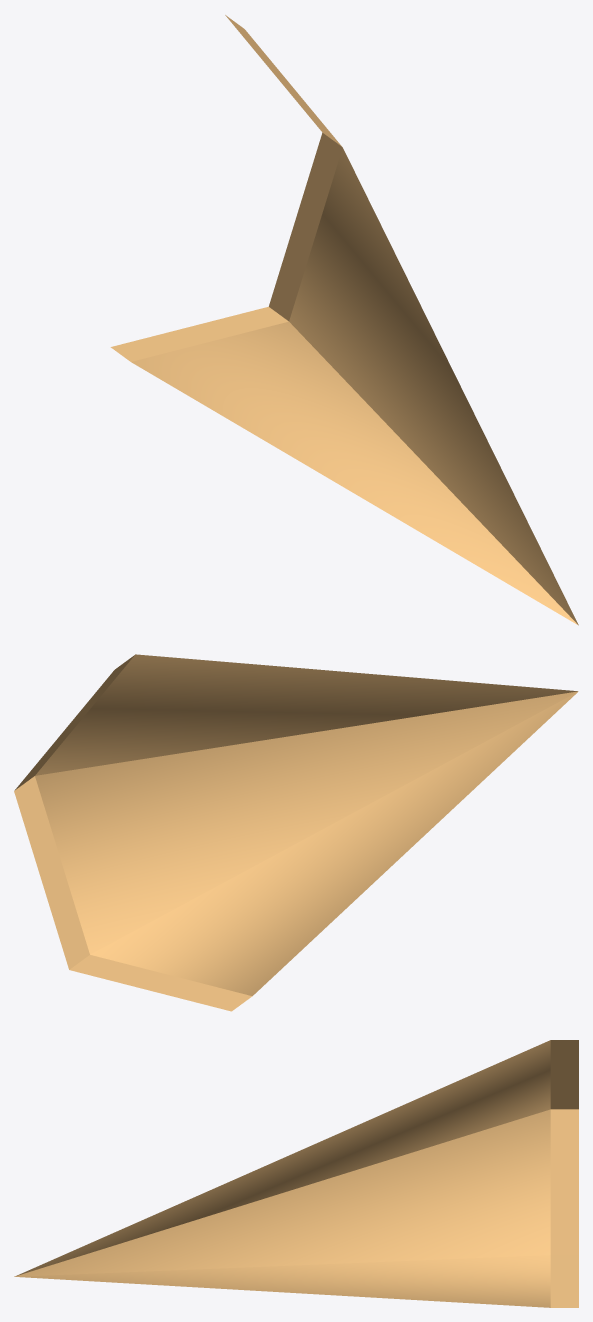
Rendered from Tail.glb.
3 renders of one model, top to bottom at view 1: azimuth 30°, elevation 25°; view 2: azimuth 150°, elevation 25°; view 3: azimuth 270°, elevation 25°, orthographic. The views are drawn at different scales.
Visible parts, largest first — view 1: Tail; view 2: Tail; view 3: Tail.
Boxes of the visible parts, left/top/right/bottom form: Tail: left=110, top=15, right=578, bottom=625; Tail: left=14, top=654, right=578, bottom=1011; Tail: left=14, top=1040, right=578, bottom=1307.
Bounding box in the file's own units: 0.1267 × 0.1197 × 0.2869.
